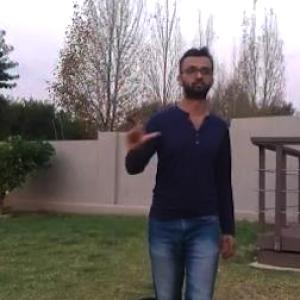land_hand: (118, 101, 161, 150)
